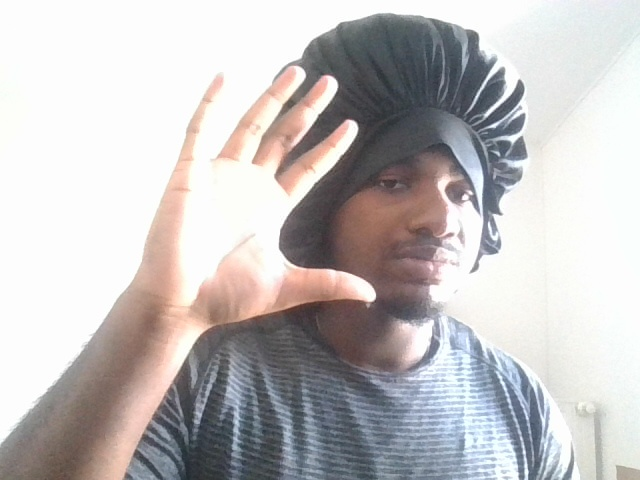Hello: (137, 46, 376, 321)
